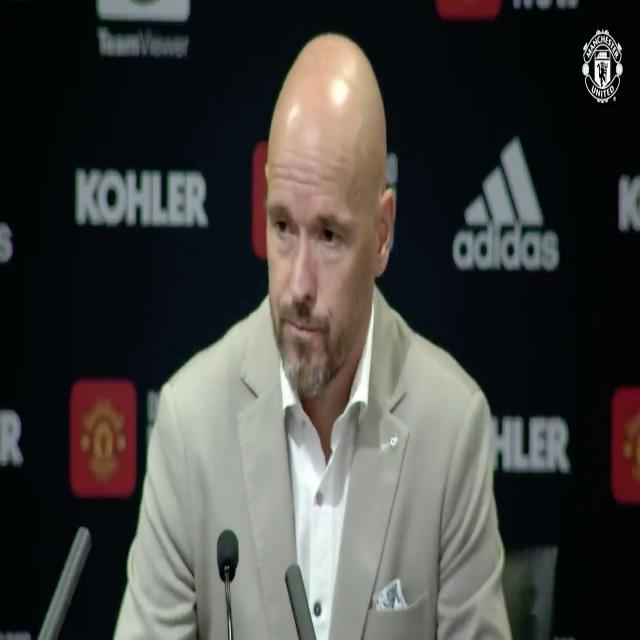Adidas: (452, 139, 560, 272)
Kohler: (75, 169, 208, 228)
TeamViewer: (98, 2, 190, 58)
